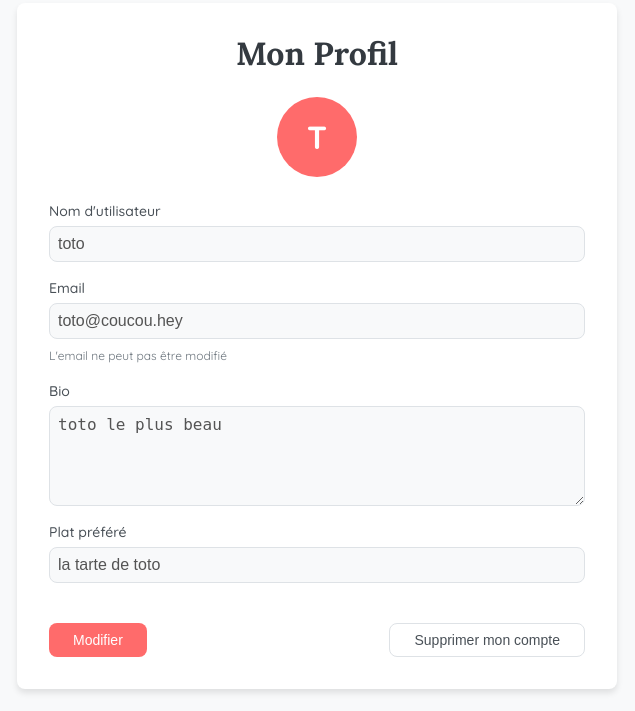
Test: Profile component › should render user info
The image size is (635, 711).
expect the field showing "toto" is shown: met, box 49,226 -> 585,262
expect the field showing "toto@coucou.hey" is shown: met, box 49,303 -> 585,339
Click the button "Modifier" at (98, 640), box 49,623 -> 147,657
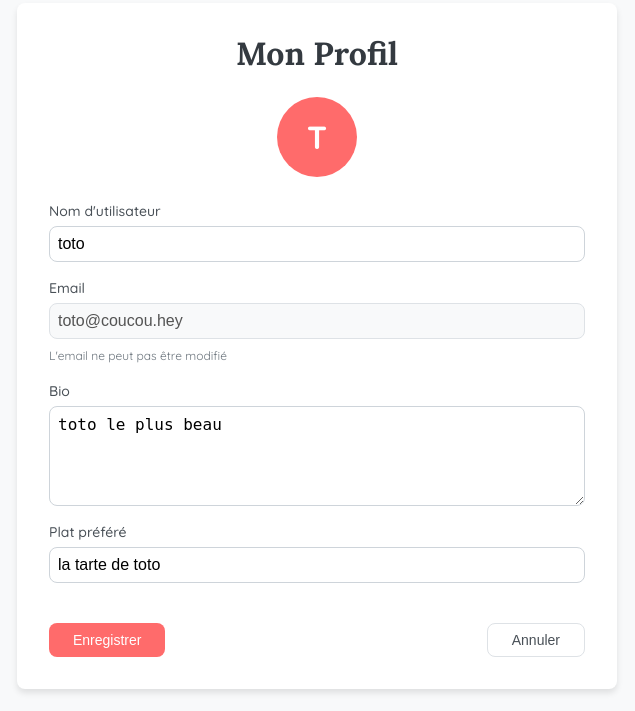
expect the button "Enregistrer" is shown: met, box 49,623 -> 166,657
expect the button "Annuler" is shown: met, box 487,623 -> 585,657
